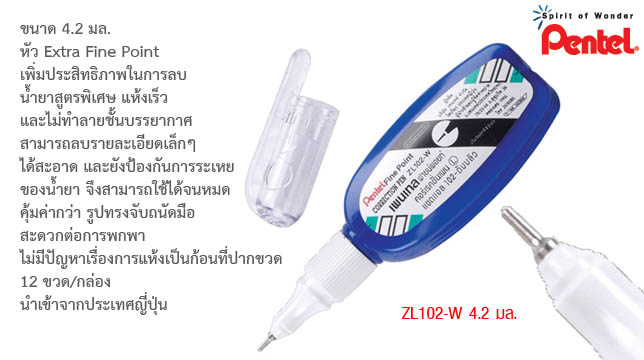Correction_fluid: (253, 40, 561, 359)
